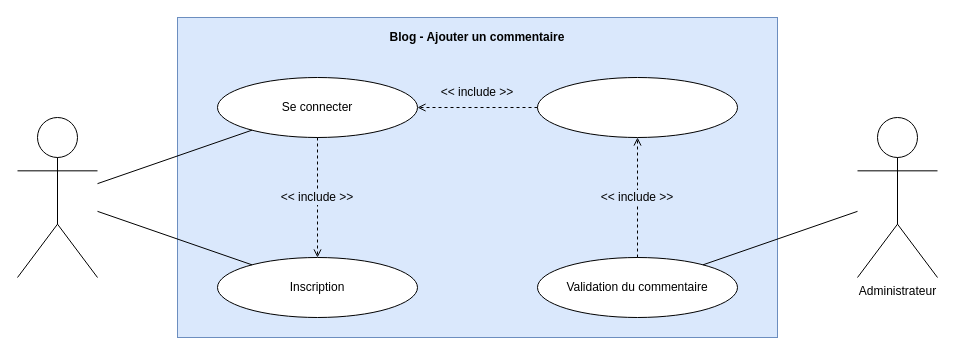
The diagram is 955 pixels wide and 355 high, and some of its shapes have lost their labels. Each missing label, with the centre of its shape:
"Ajouter un commentaire" belongs at (637,107).
"Visiteur" belongs at (57,197).
